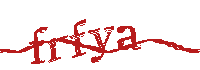a: (115, 24, 142, 53)
f: (29, 25, 47, 65), (71, 17, 87, 59)
r: (47, 34, 67, 66)
y: (89, 23, 115, 65)
